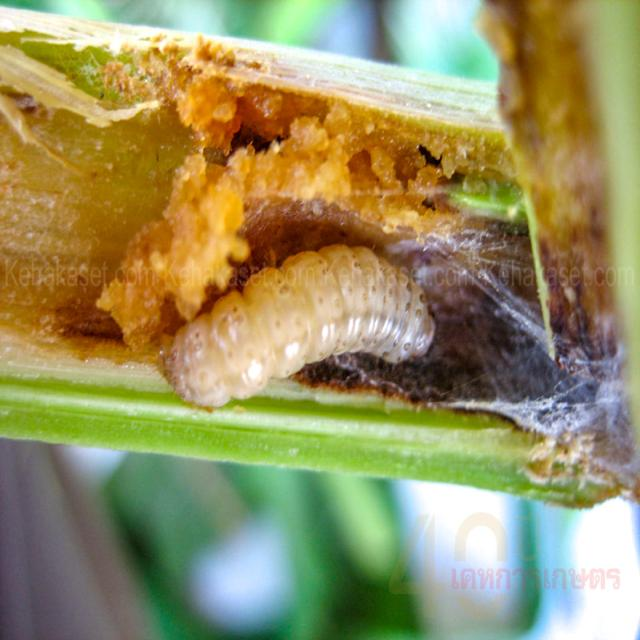Corn-earworm: (150, 248, 441, 425)
